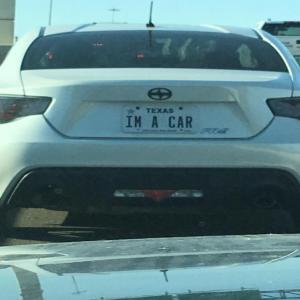Plate: (122, 103, 214, 136)
